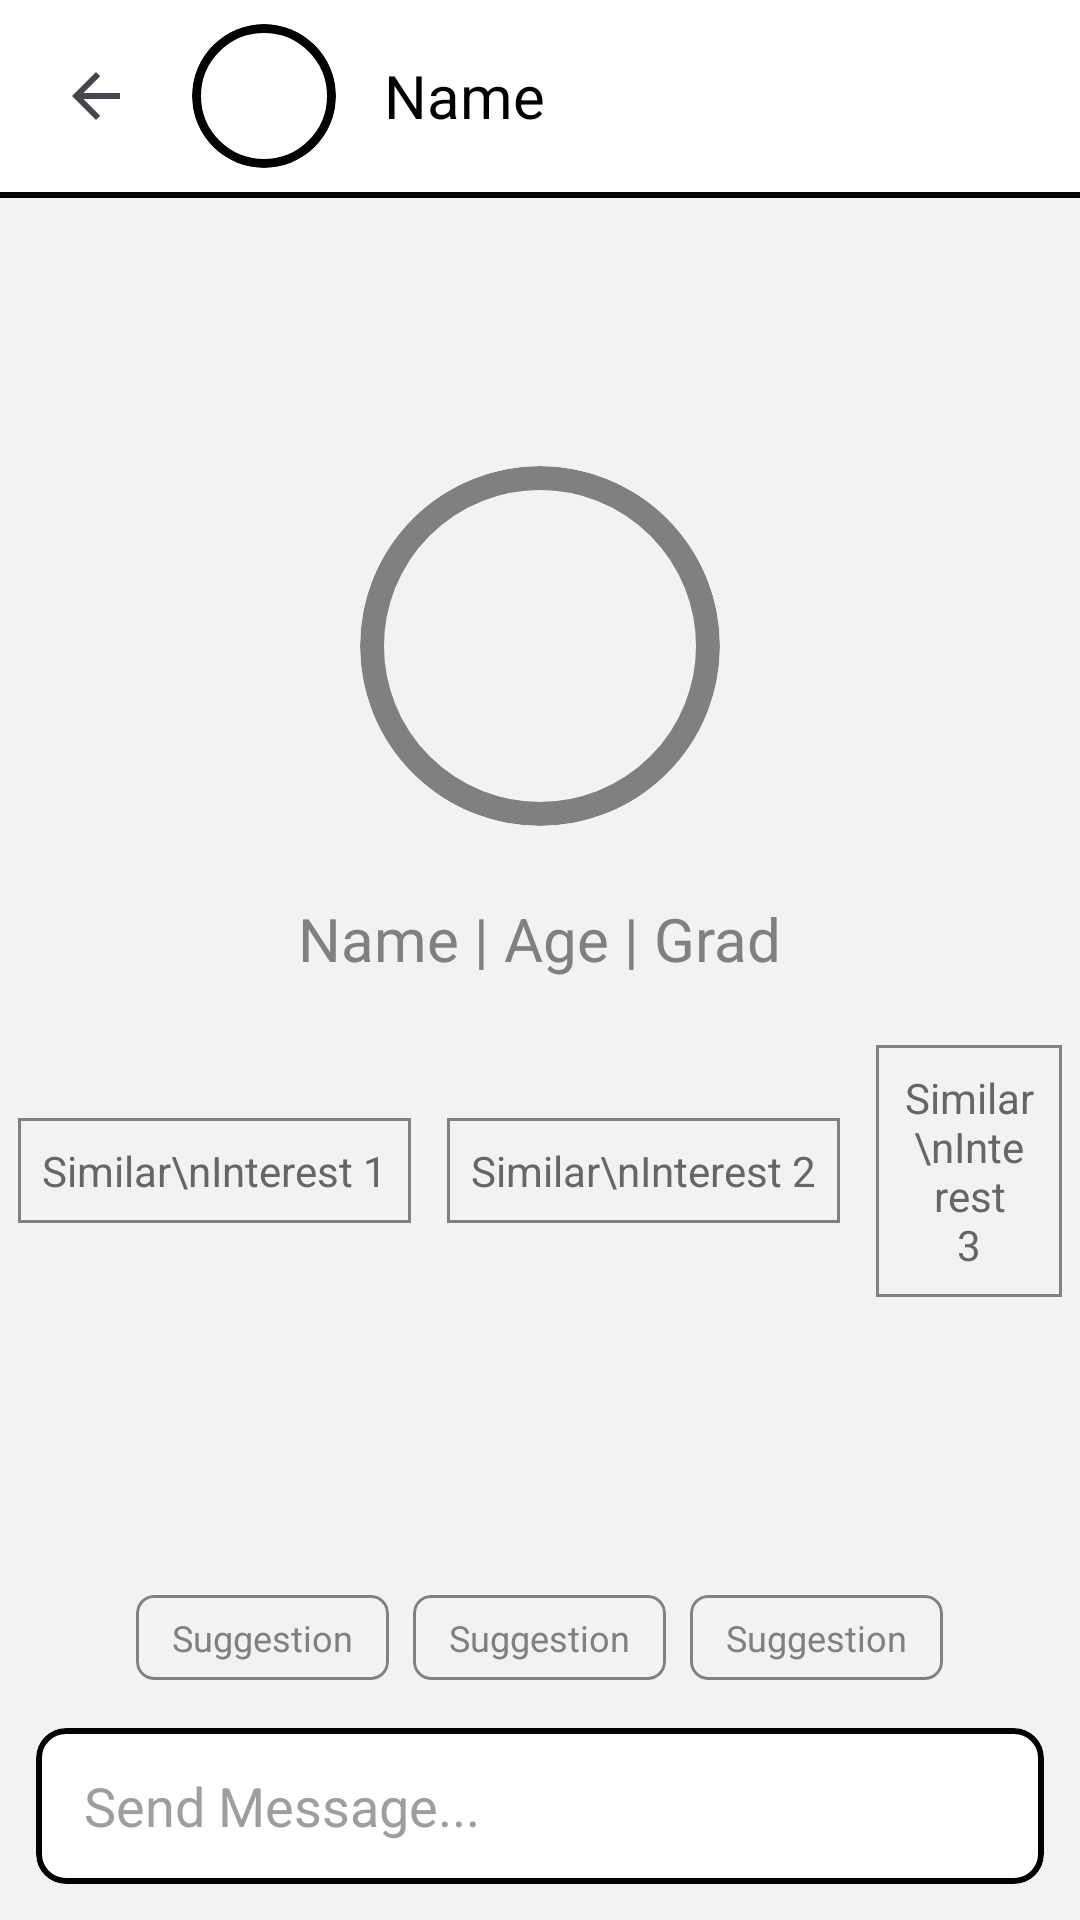

Icons on this 1080 × 1920 Android screen, each with its box as (x1=x1, y1=y1, x2=x2, y2=y2):
Back: (x1=72, y1=72, x2=120, y2=120)
